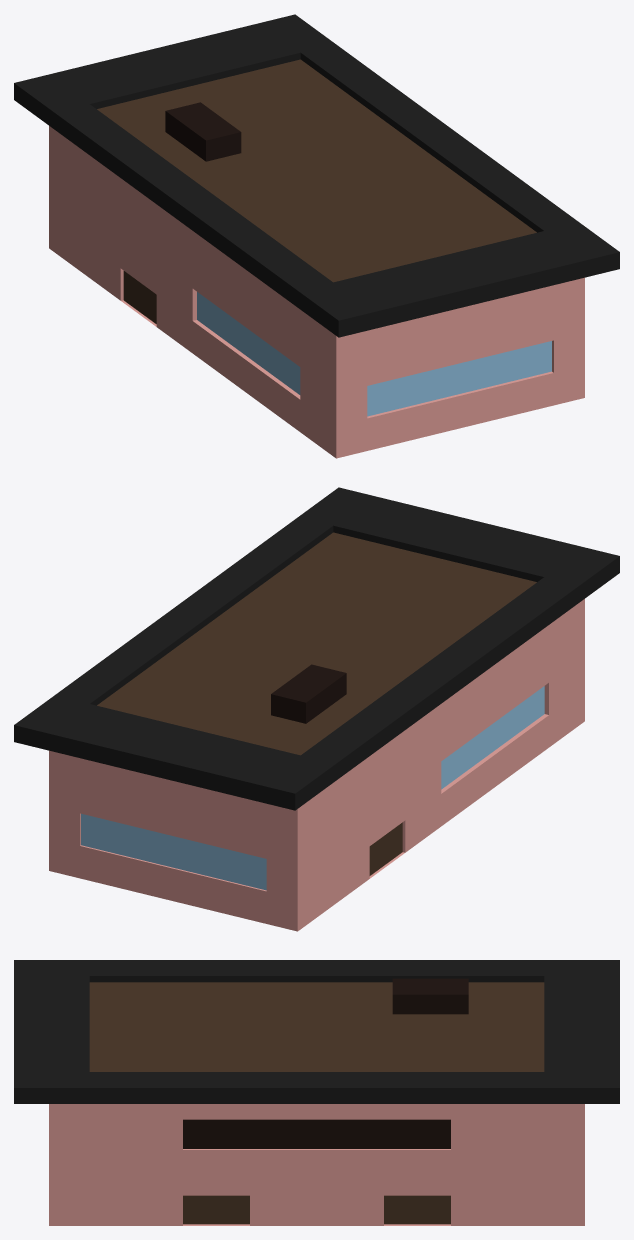
File: Shop03Stone.fbx
The picture shows the model from 3 angles, top to bottom: view 1: azimuth 30°, elevation 25°; view 2: azimuth 150°, elevation 25°; view 3: azimuth 270°, elevation 25°; orthographic projection. The views are drawn at different scales.
Parts seen in each view (by area): view 1: Cube; view 2: Cube; view 3: Cube.
Part boxes in pixels (left/top/right/bottom): Cube: left=14, top=14, right=619, bottom=458; Cube: left=14, top=487, right=619, bottom=931; Cube: left=14, top=960, right=619, bottom=1225.
Size of the model in its own units: 226 by 131 by 452.
